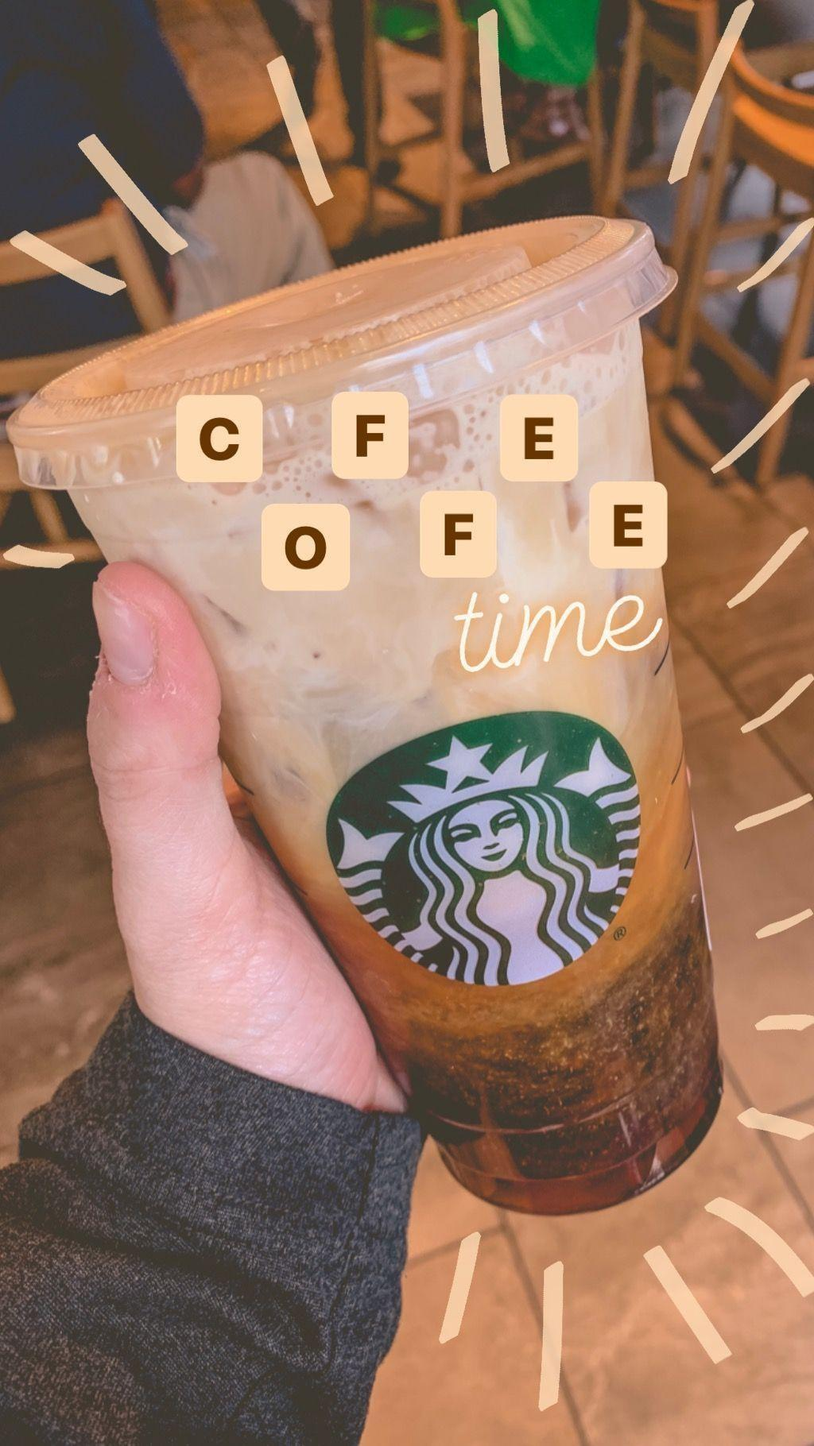cup-disposable: (6, 209, 728, 1220)
